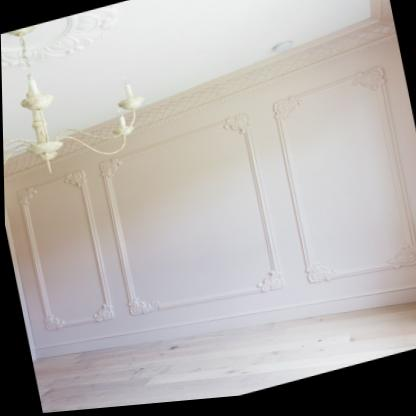Futec frame: (83, 97, 291, 346), (252, 54, 416, 316), (5, 149, 117, 351)
